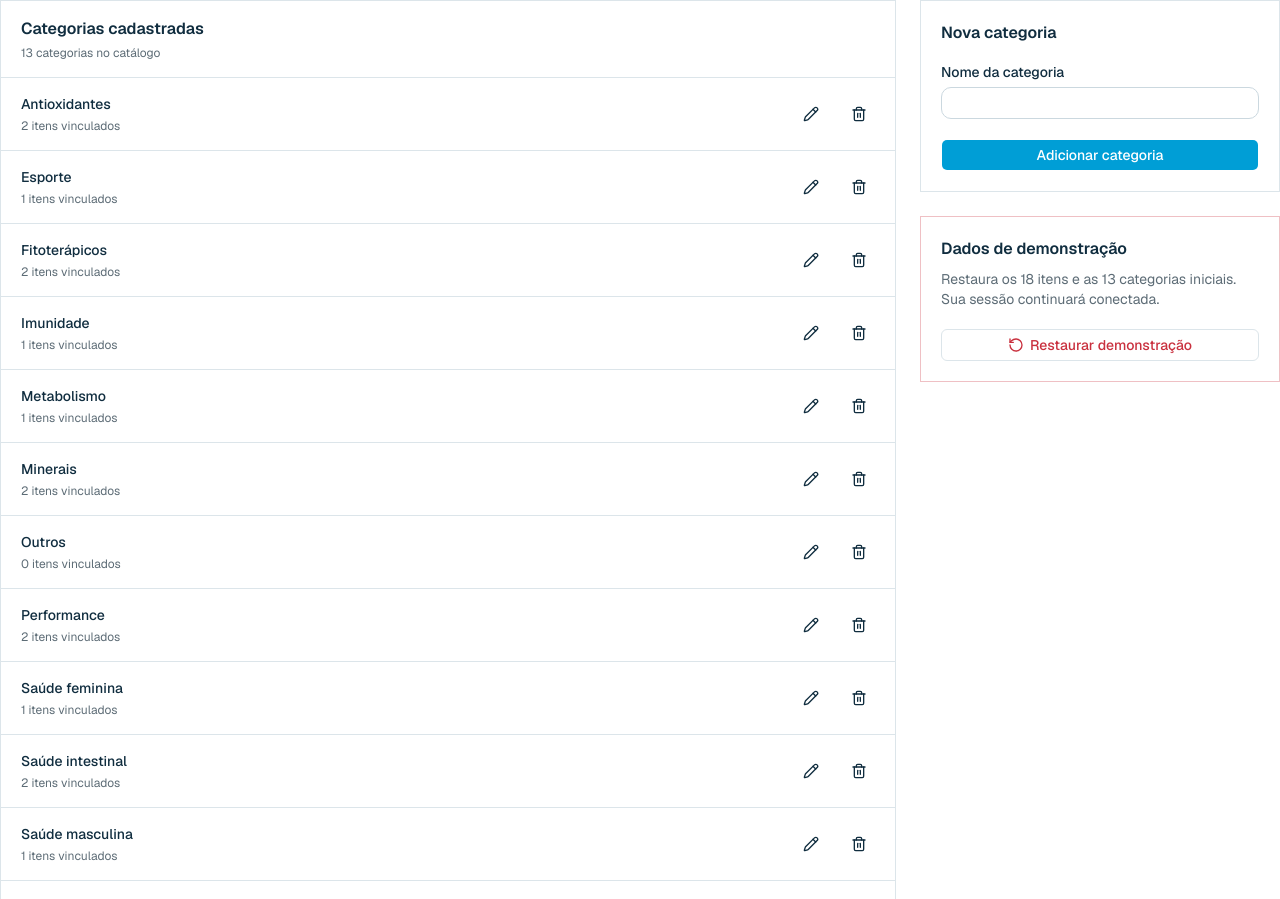
Scenario: CategoryAdminContent › explains why a category with linked items cannot be deleted
Click the button named "Excluir Antioxidantes".
click(859, 114)  # box [843, 98, 875, 130]
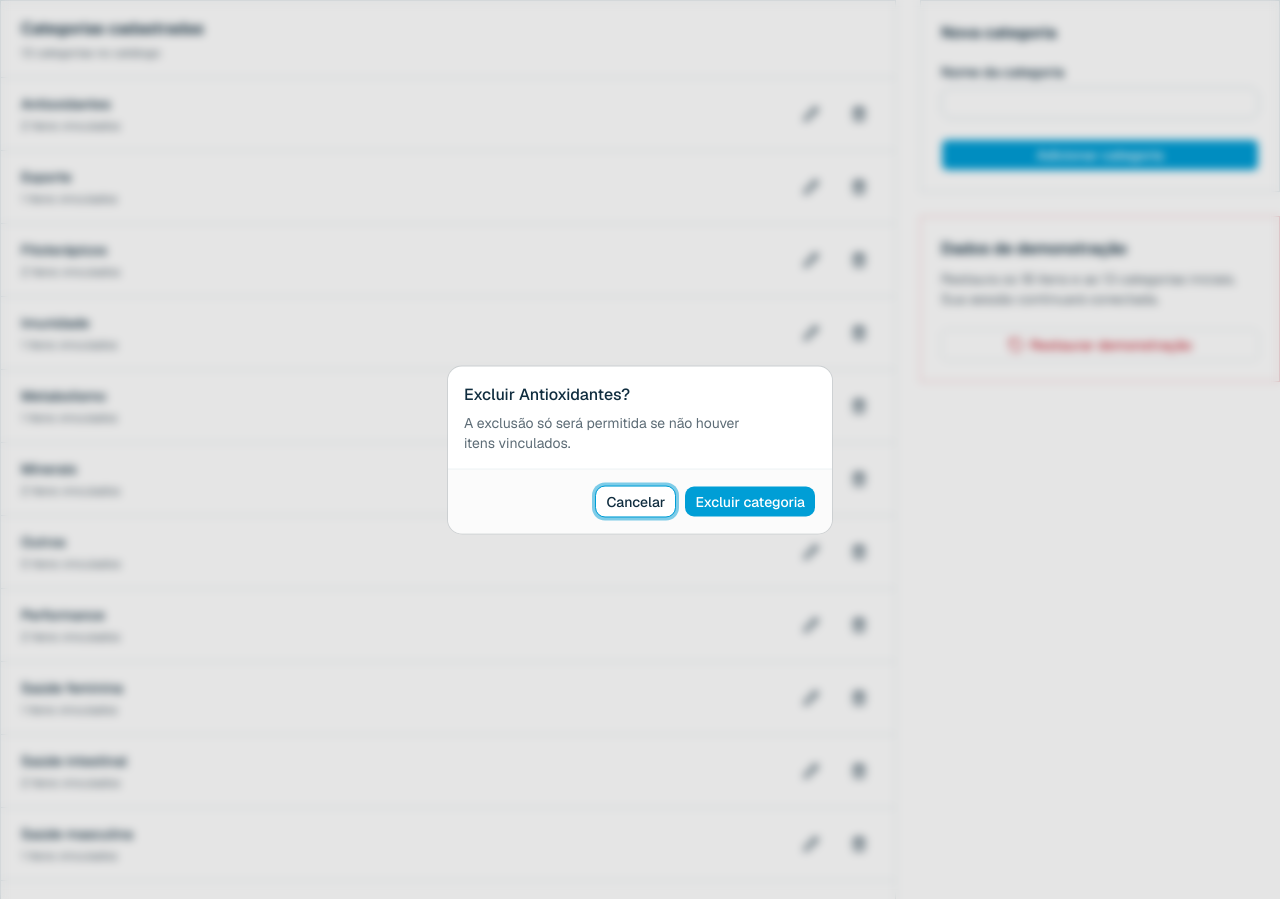
Click the button "Excluir categoria".
click(750, 502)  # box [684, 486, 816, 518]
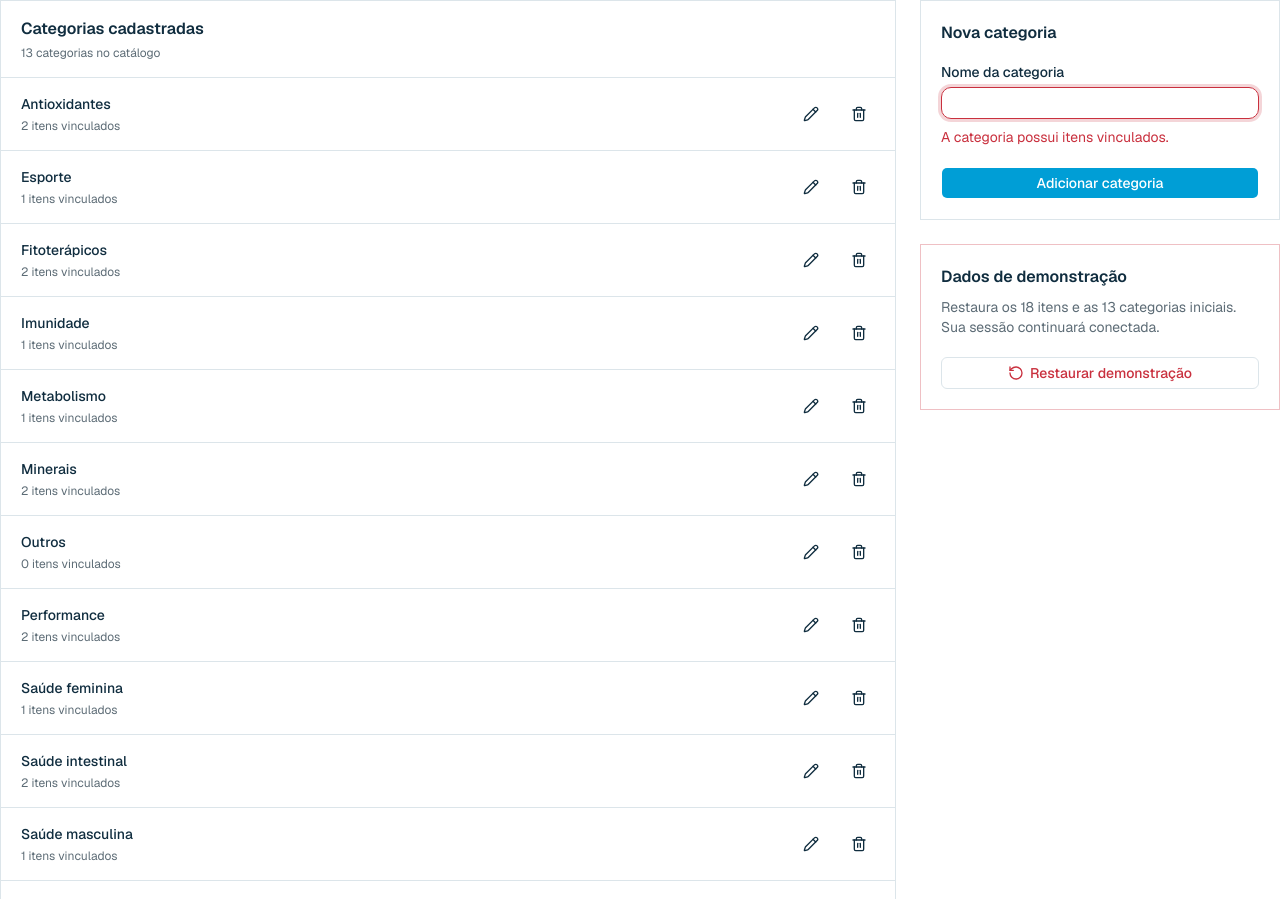
Expected: the text "A categoria possui itens vinculados." is shown, [941, 128, 1169, 146]
